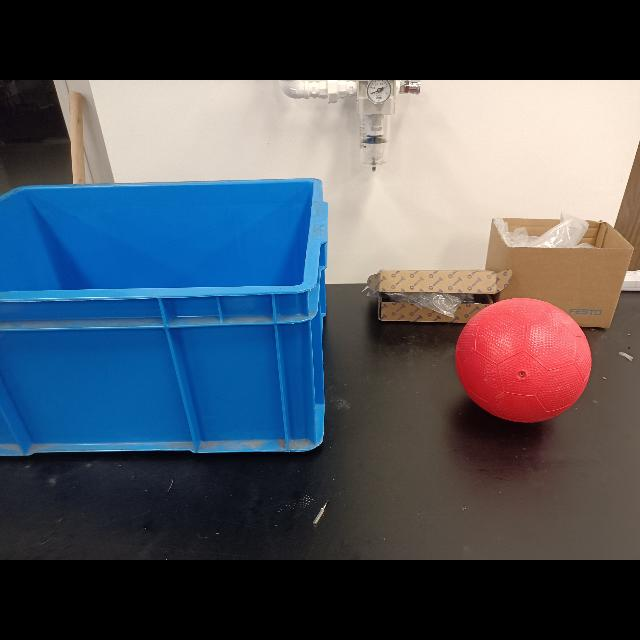R: (457, 298, 593, 422)
